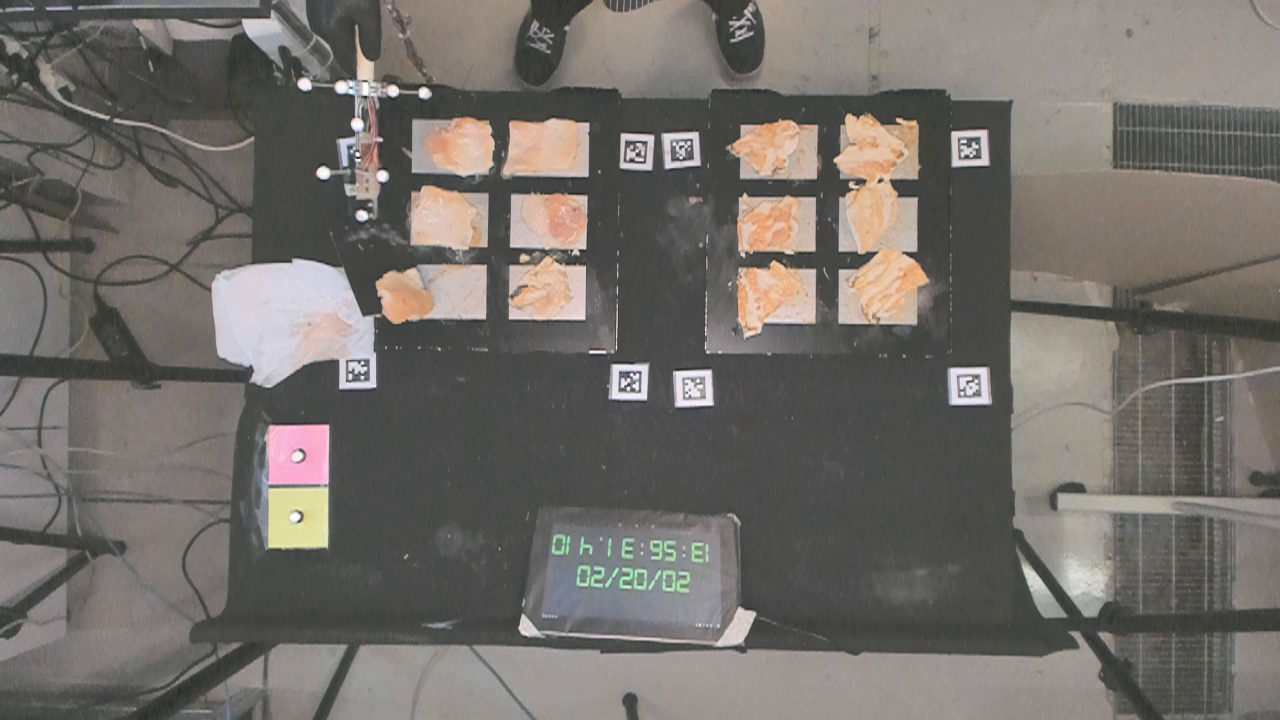chicken: (850, 248, 933, 327), (830, 107, 910, 182), (733, 257, 803, 339), (407, 181, 485, 250), (423, 111, 495, 181), (503, 115, 581, 177), (729, 108, 798, 176), (523, 182, 590, 252), (844, 181, 907, 254), (733, 195, 804, 254), (514, 254, 572, 324), (376, 263, 435, 323)
marker: (267, 424, 329, 485)
